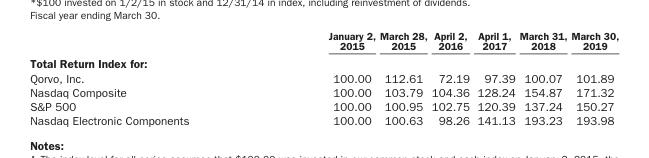table: (29, 29, 618, 127)
table column: (29, 29, 258, 127), (258, 29, 377, 127), (516, 29, 568, 127), (377, 29, 428, 127), (568, 29, 618, 127), (428, 29, 472, 127), (472, 29, 516, 127)
table column header: (29, 29, 618, 54)
table projected row header: (29, 54, 618, 70)
table row: (29, 29, 618, 54), (29, 54, 618, 70), (29, 84, 618, 99), (29, 70, 618, 84), (29, 99, 618, 113), (29, 113, 618, 127)
